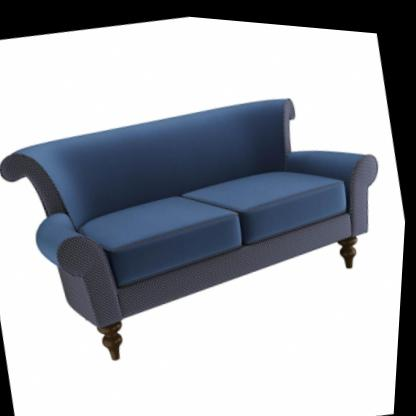Sofa: (0, 53, 414, 396)
